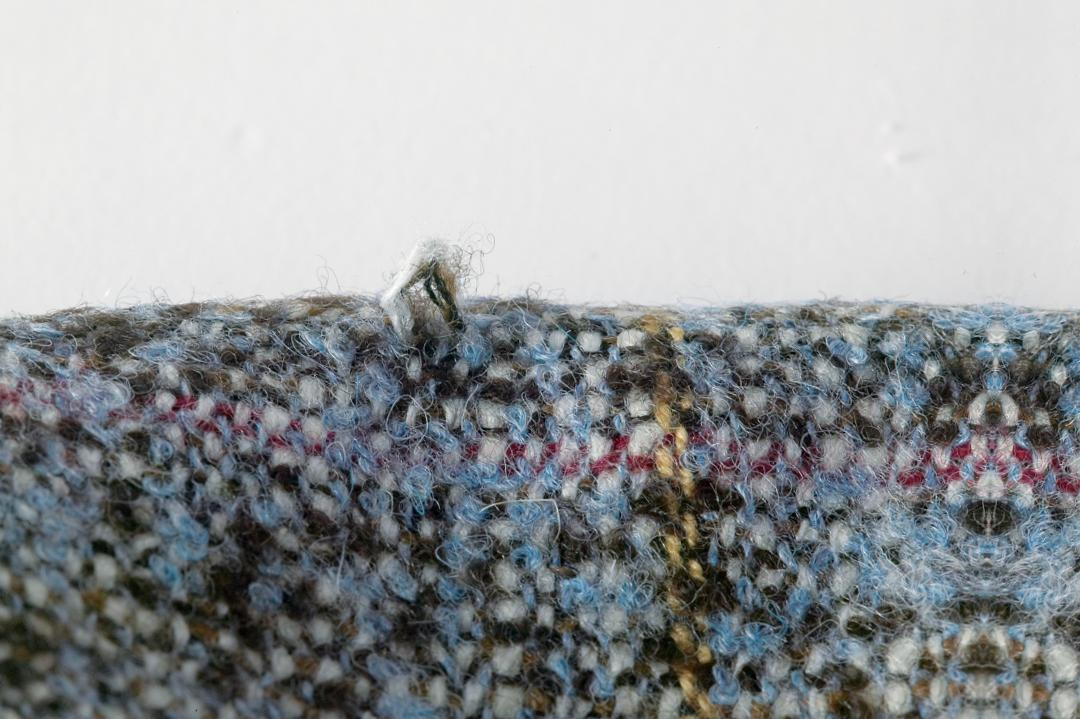snag: (371, 237, 505, 383)
